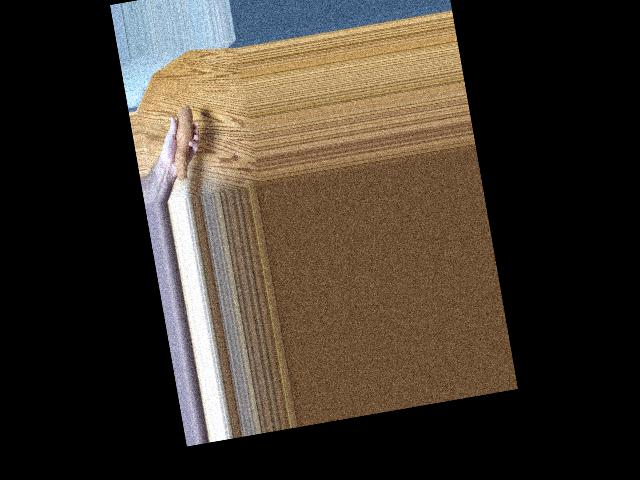sweet_potato: (164, 103, 203, 179)
